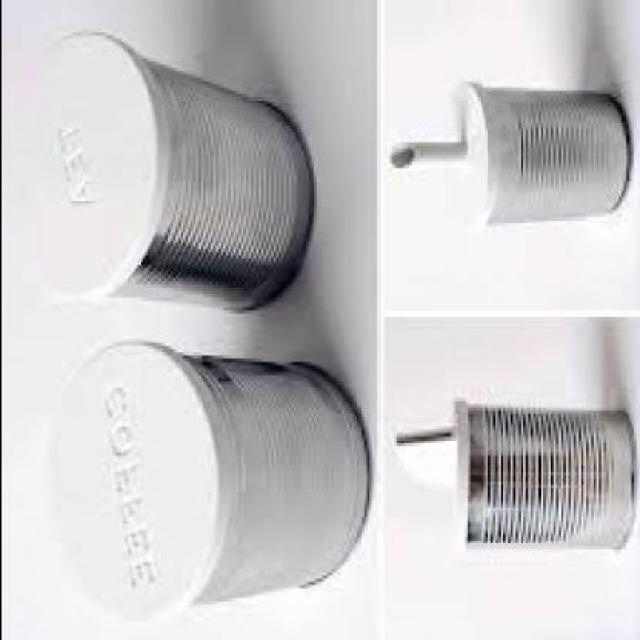METAL: (80, 49, 312, 313), (121, 356, 365, 584), (448, 401, 630, 547), (456, 88, 622, 220)
